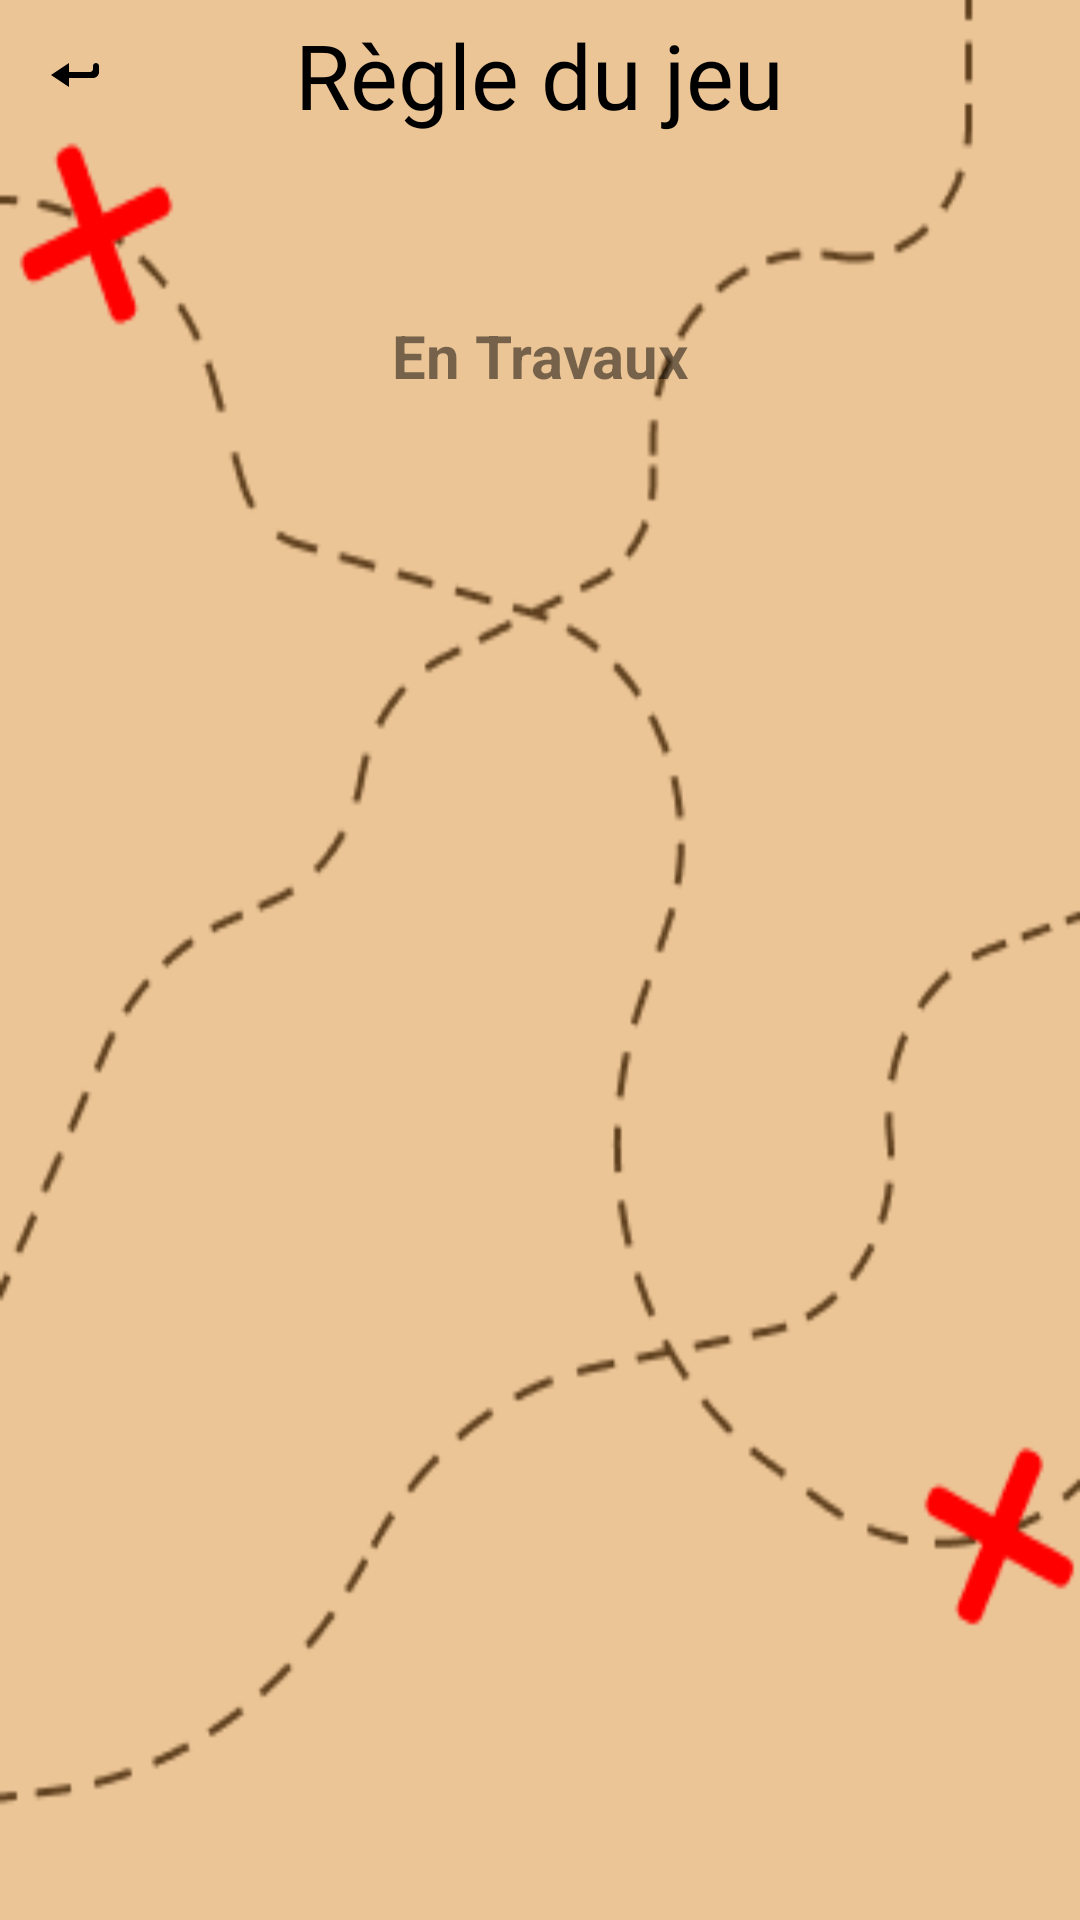

Named icons in this screenshot (1080 x 1920) and their bounding boxes, (x1, y1, x2, y2):
Retour: (51, 63, 99, 87)
